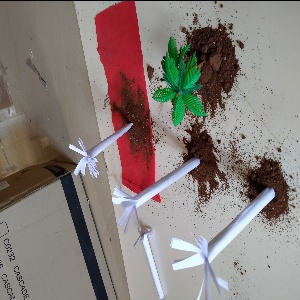plant: (137, 37, 216, 119)
weed: (165, 215, 292, 300), (113, 166, 200, 233), (57, 122, 141, 179)
